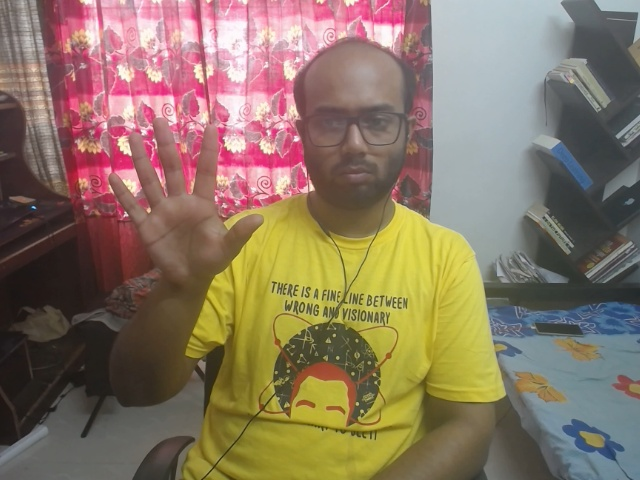five: (79, 102, 281, 286)
